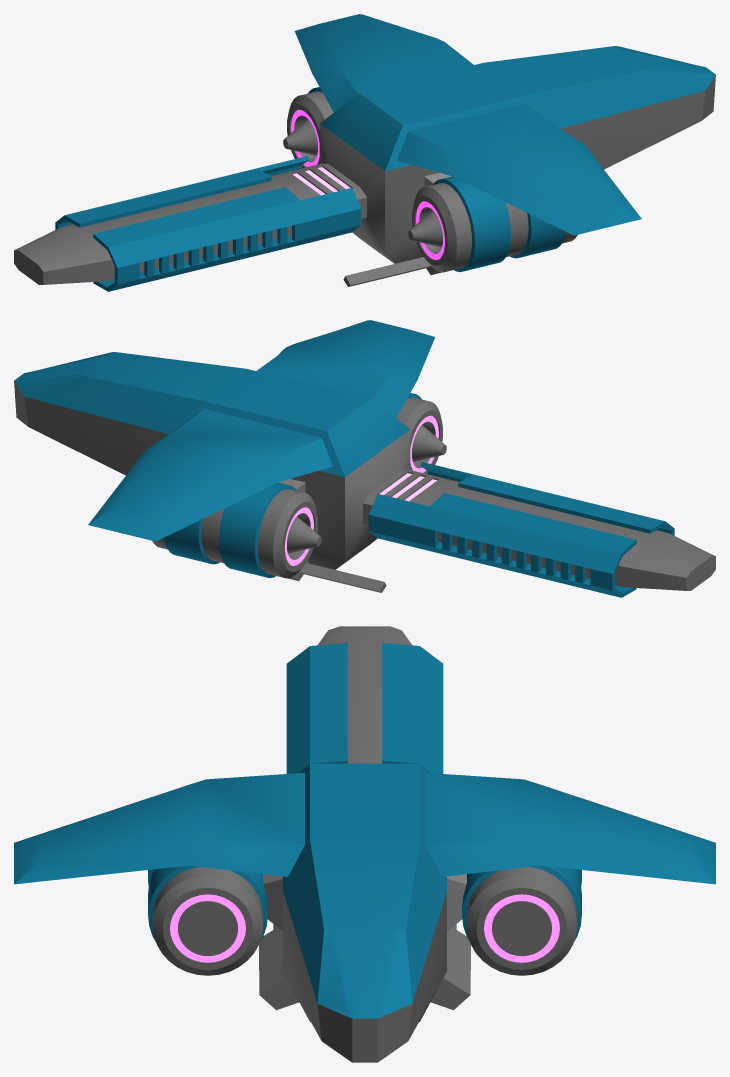
File: ship_placeholder.fbx
3 renders of one model, top to bottom at view 1: azimuth 30°, elevation 25°; view 2: azimuth 150°, elevation 25°; view 3: azimuth 270°, elevation 25°, orthographic. The views are drawn at different scales.
Visible parts, largest first — view 1: turret body; view 2: turret body; view 3: turret body.
Part boxes in pixels (bbox=[...]): turret body: bbox=[14, 14, 715, 291]; turret body: bbox=[14, 320, 715, 597]; turret body: bbox=[14, 626, 715, 1062].
Size of the model in its own units: 121 by 24.64 by 86.07.
Materials: 2 (1 with a texture image).
